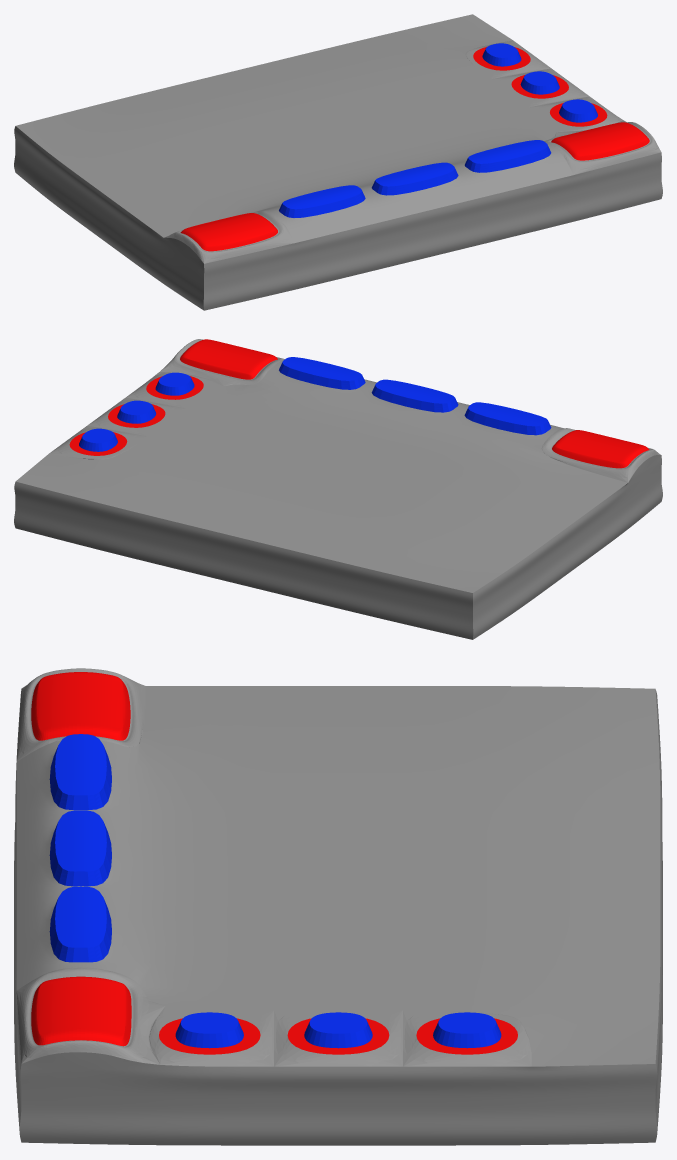
File: HUD.FBX
3 views of the same model, one above another, from view 1: azimuth 30°, elevation 25°; view 2: azimuth 150°, elevation 25°; view 3: azimuth 270°, elevation 25° (orthographic). The views are drawn at different scales.
Parts seen in each view (by area): view 1: Box002; view 2: Box002; view 3: Box002.
Boxes of the visible parts, left/top/right/bottom form: Box002: left=14, top=14, right=662, bottom=310; Box002: left=14, top=339, right=662, bottom=639; Box002: left=14, top=668, right=662, bottom=1145.
Bounding box in the file's own units: 67.42 × 9.37 × 48.27.
